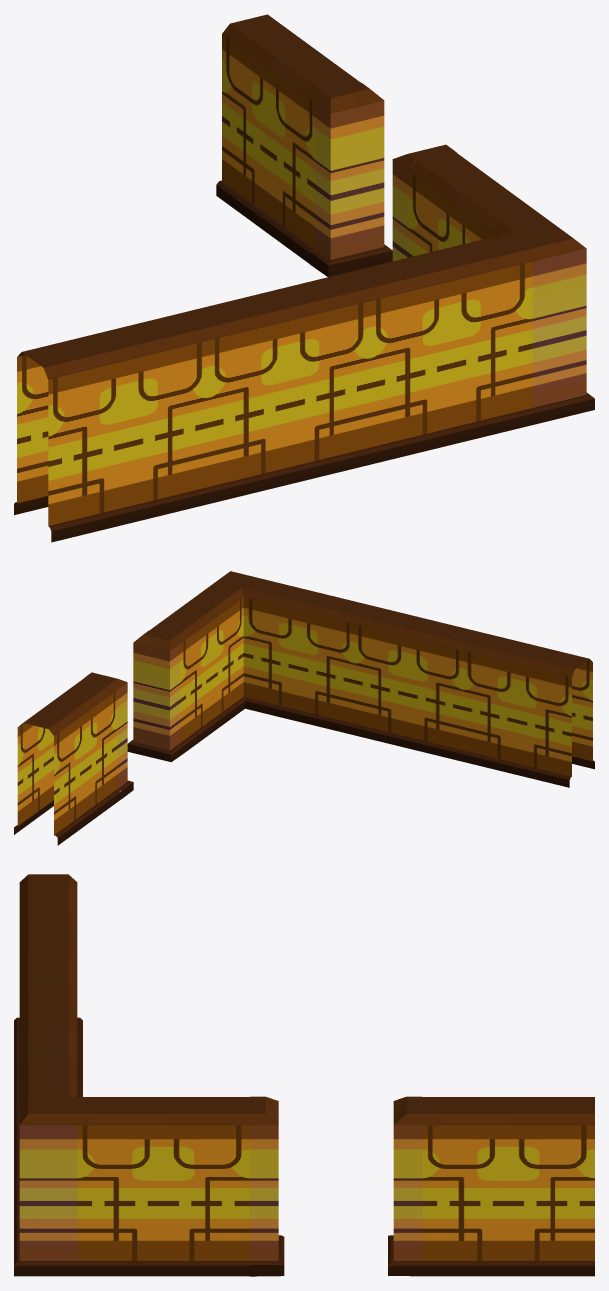
File: s1_LivingWalls_v2.fbx
3 renders of one model, top to bottom at view 1: azimuth 30°, elevation 25°; view 2: azimuth 150°, elevation 25°; view 3: azimuth 270°, elevation 25°, orthographic. The views are drawn at different scales.
Parts seen in each view (by area): view 1: s1_LivingWalls_v2; view 2: s1_LivingWalls_v2; view 3: s1_LivingWalls_v2.
Boxes of the visible parts, box(x1,y1,x2,y2) form: s1_LivingWalls_v2: box(14, 14, 594, 542); s1_LivingWalls_v2: box(14, 571, 594, 845); s1_LivingWalls_v2: box(14, 874, 594, 1276).
Bounding box in the file's own units: 1010 × 300 × 1010.
